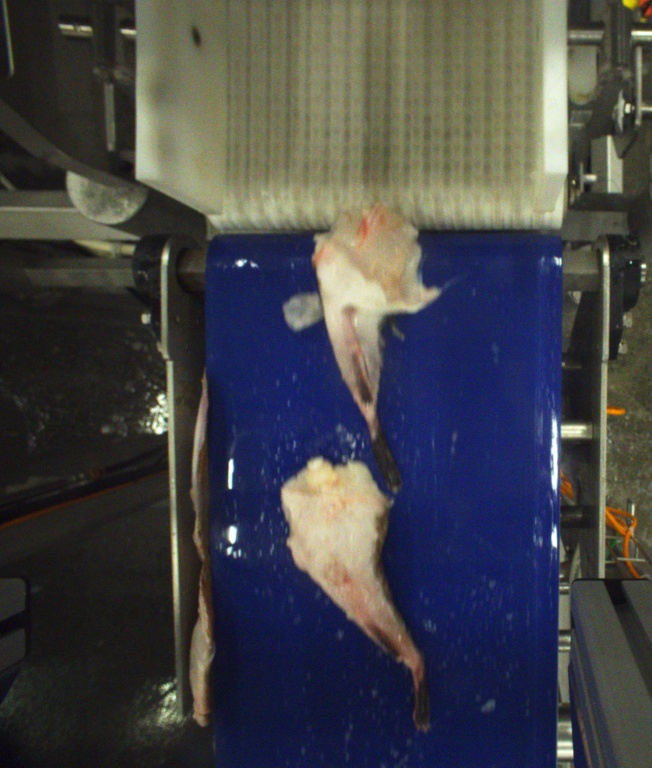ANF: (281, 459, 434, 728)
